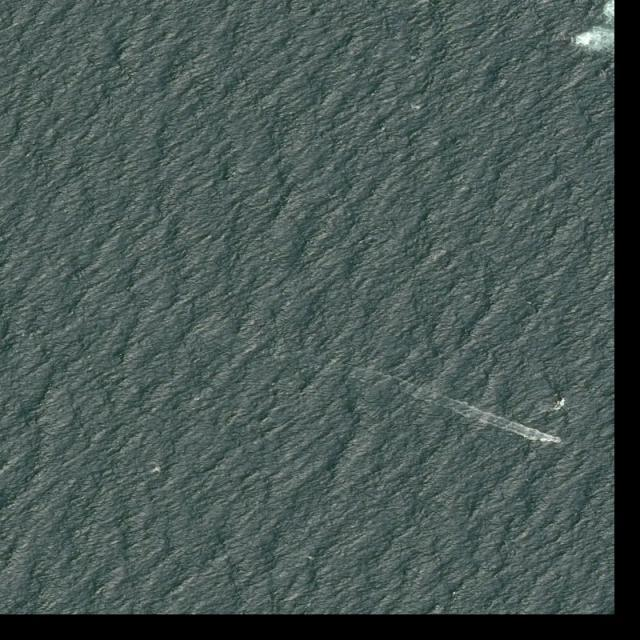ship: (552, 438, 563, 443)
